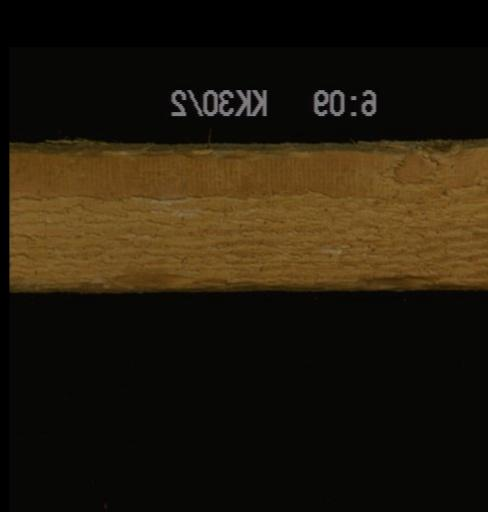edge_knot: (418, 139, 462, 155)
wave: (75, 276, 445, 291)
